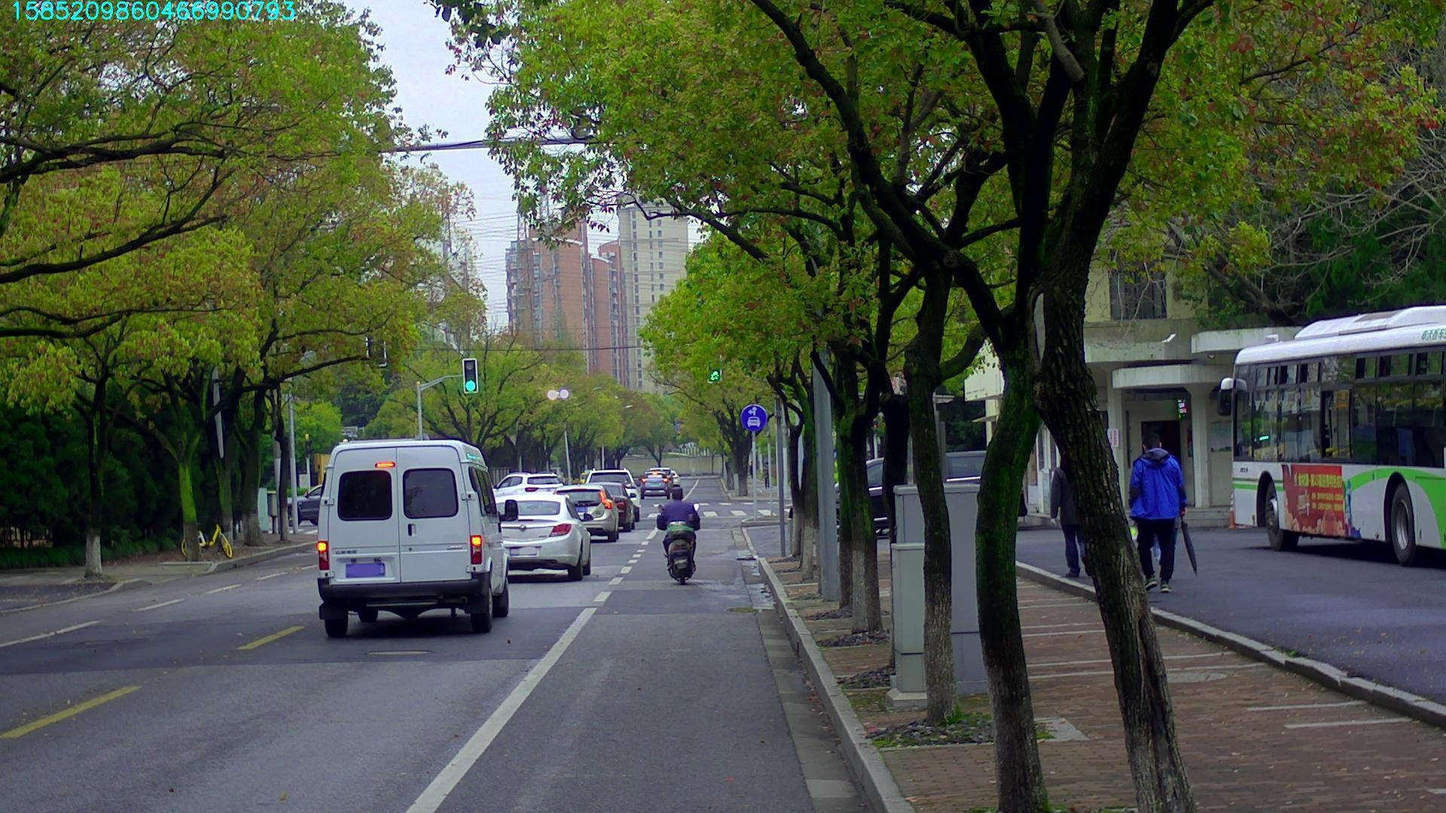green: (462, 358, 477, 392), (708, 364, 719, 382)
